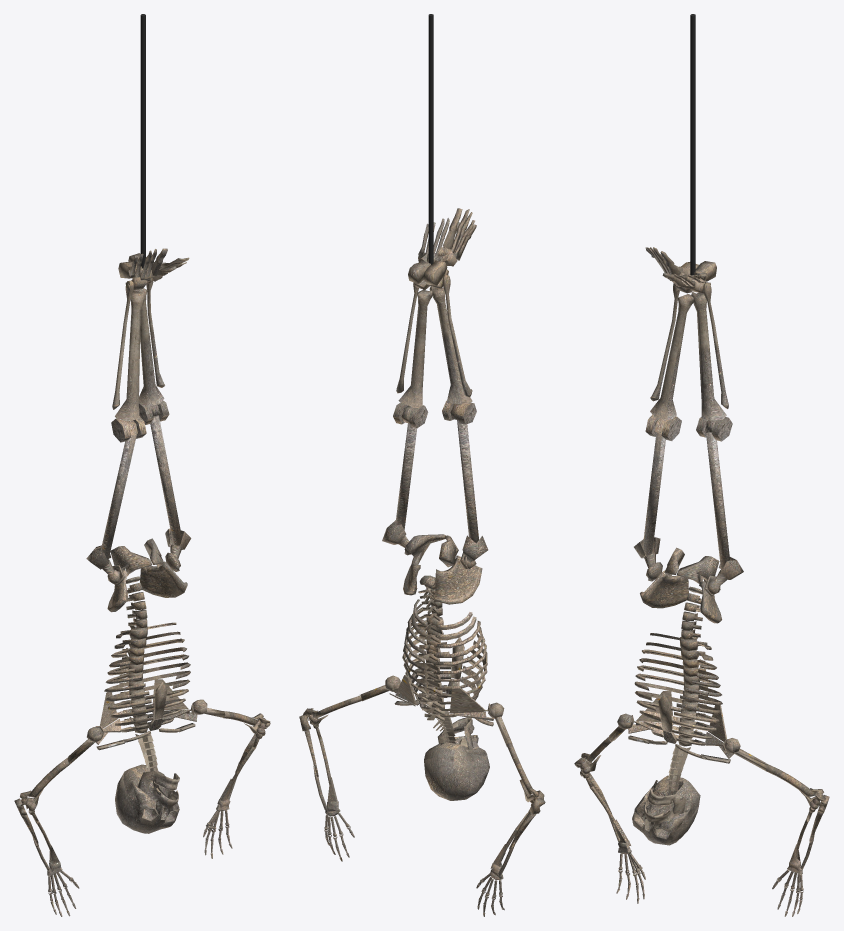
Rendered from weight.obj.
3 views of the same model, side by side, from view 1: azimuth 30°, elevation 25°; view 2: azimuth 150°, elevation 25°; view 3: azimuth 330°, elevation 25° (orthographic). The views are drawn at different scales.
Parts seen in each view (by area): view 1: THORAX01, SKULL_HE01, PELVIS01, LFEMUR01, LLOW_LEG01, RFEMUR01, RLOW_LEG01, Cylinder002, LHUMERUS01, RHUMERUS01, SACLUMBR01, LLOW_ARM01 (+7 smaller); view 2: THORAX01, SKULL_HE01, PELVIS01, LFEMUR01, RFEMUR01, RLOW_LEG01, LLOW_LEG01, Cylinder002, LHUMERUS01, L_TOES01, RLOW_ARM01, RHUMERUS01 (+7 smaller); view 3: THORAX01, PELVIS01, SKULL_HE01, RFEMUR01, RLOW_LEG01, LFEMUR01, LLOW_LEG01, Cylinder002, RHUMERUS01, SACLUMBR01, LHUMERUS01, RLOW_ARM01 (+6 smaller).
Boxes of the visible parts, x1,y1,x2,y2 form: THORAX01: [104, 622, 190, 733]; SKULL_HE01: [115, 764, 179, 833]; PELVIS01: [107, 538, 187, 612]; LFEMUR01: [86, 416, 146, 584]; LLOW_LEG01: [112, 280, 145, 420]; RFEMUR01: [139, 400, 191, 567]; RLOW_LEG01: [133, 281, 164, 406]; Cylinder002: [140, 14, 145, 268]; LHUMERUS01: [20, 727, 102, 811]; RHUMERUS01: [193, 699, 270, 734]; SACLUMBR01: [125, 576, 147, 627]; LLOW_ARM01: [14, 798, 61, 871]; THORAX01: [402, 599, 487, 721]; SKULL_HE01: [424, 735, 489, 800]; PELVIS01: [403, 534, 482, 604]; LFEMUR01: [442, 400, 488, 568]; RFEMUR01: [382, 402, 428, 554]; RLOW_LEG01: [396, 282, 432, 407]; LLOW_LEG01: [429, 275, 472, 404]; Cylinder002: [428, 14, 433, 264]; LHUMERUS01: [488, 702, 544, 803]; L_TOES01: [442, 208, 476, 260]; RLOW_ARM01: [299, 715, 338, 809]; RHUMERUS01: [302, 675, 400, 725]; THORAX01: [634, 633, 722, 746]; PELVIS01: [640, 547, 721, 623]; SKULL_HE01: [632, 775, 700, 845]; RFEMUR01: [696, 417, 743, 594]; RLOW_LEG01: [691, 283, 728, 421]; LFEMUR01: [634, 414, 681, 577]; LLOW_LEG01: [650, 283, 694, 419]; Cylinder002: [690, 14, 695, 275]; RHUMERUS01: [724, 738, 826, 809]; SACLUMBR01: [681, 586, 702, 639]; LHUMERUS01: [575, 713, 631, 773]; RLOW_ARM01: [789, 795, 829, 870].
Size of the model in its own units: 1.12 by 3.8 by 0.3973.
Materials: 2 (1 with a texture image).
